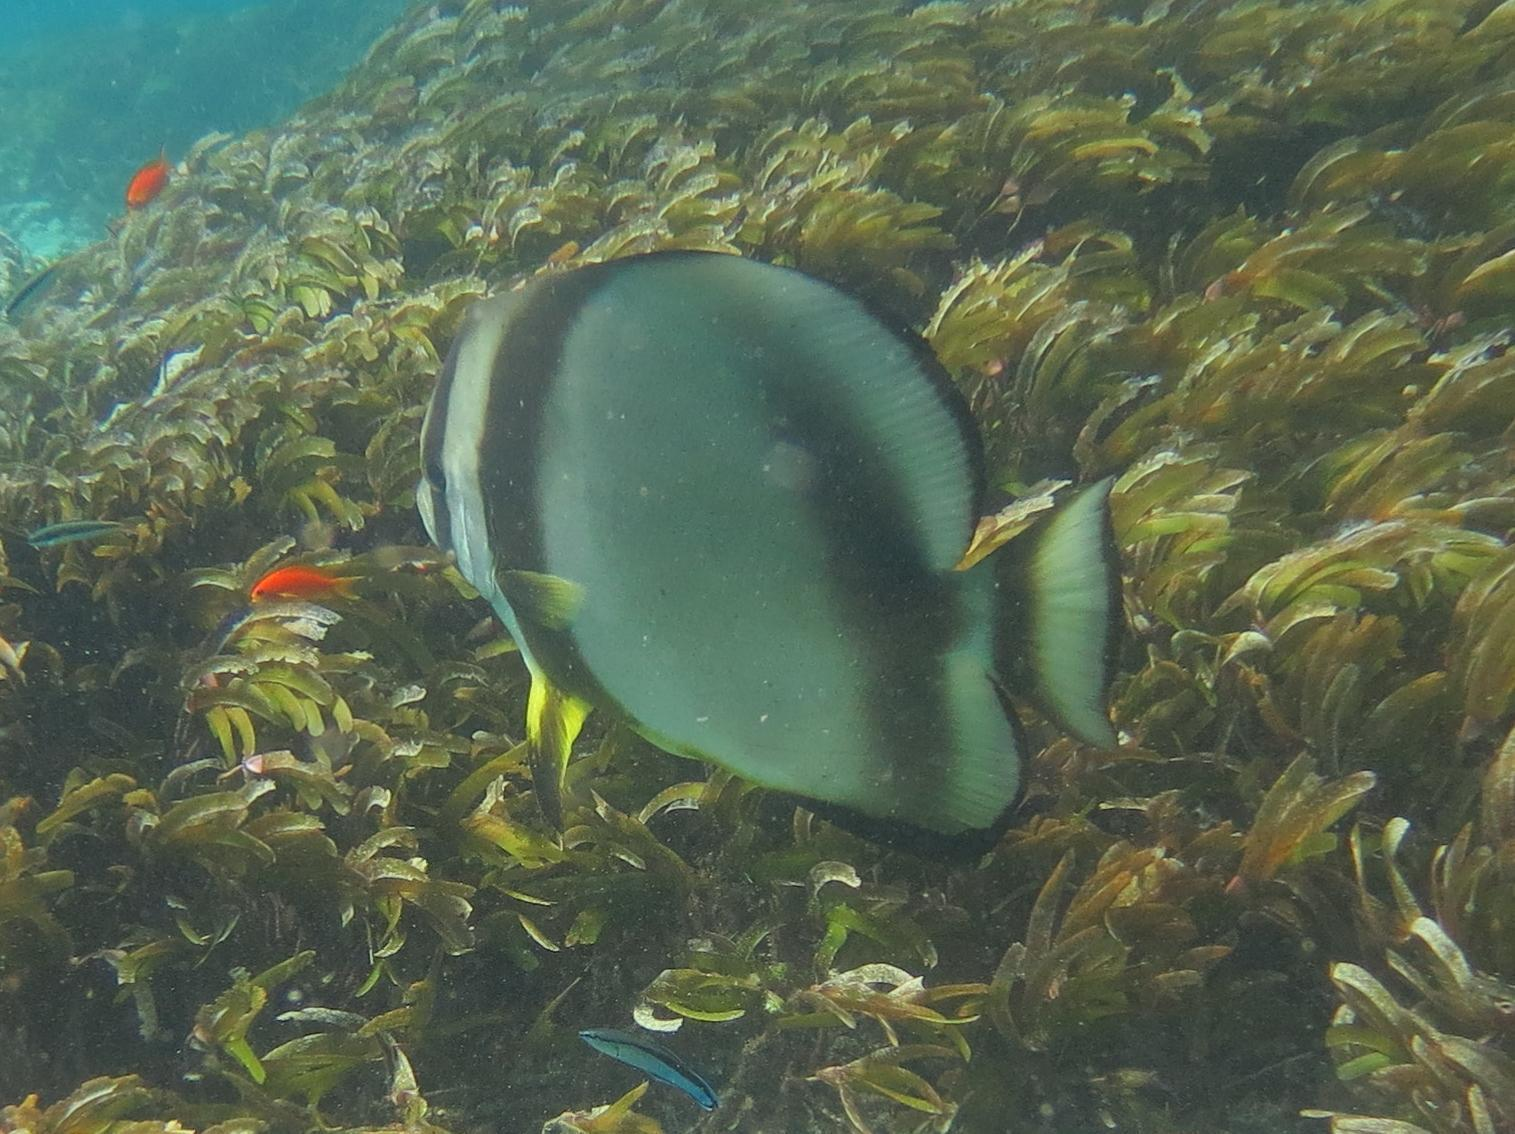Fish: (403, 241, 1145, 887)
